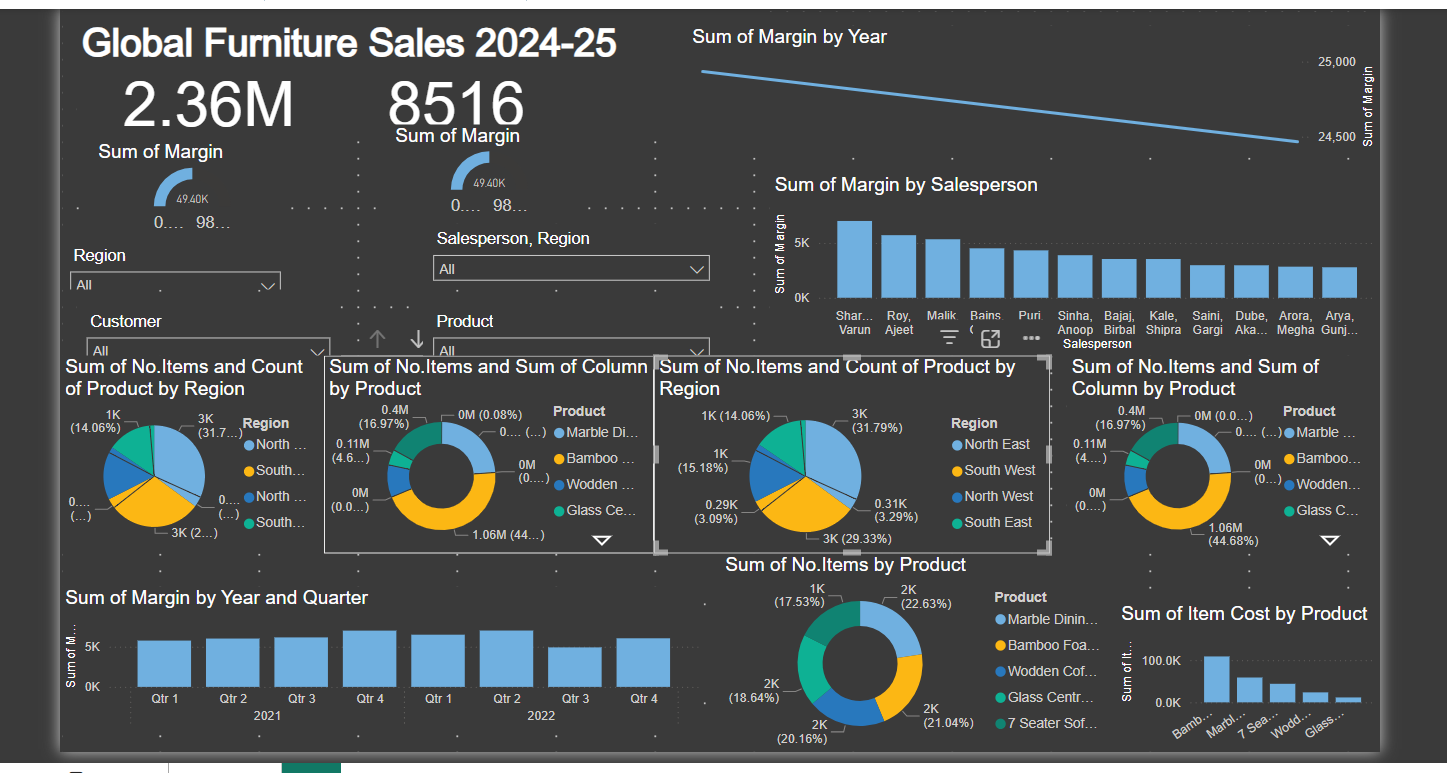

Layout of this report page (visuals, bound fields, positions):
{"tool":"powerbi","page":{"name":"Page 1","canvas":[1280,720],"ordinal":0},"visuals":[{"type":"textbox","box":[16,0,672,128],"z":0},{"type":"columnChart","fields":{"Y":["Sum(Raw_Data.Margin)"],"Category":["Raw_Data.Date.Variation.Date Hierarchy.Year","Raw_Data.Date.Variation.Date Hierarchy.Quarter"]},"box":[0,560,624,144],"z":1000},{"type":"donutChart","fields":{"Category":["Raw_Data.Product"],"Y":["Sum(Raw_Data.No.Items)"]},"box":[640,528,384,192],"z":2000},{"type":"columnChart","fields":{"Category":["Raw_Data.Product"],"Y":["Sum(Raw_Data.Item Cost)"]},"box":[1024,576,256,144],"z":3000},{"type":"donutChart","fields":{"Category":["Raw_Data.Product","Raw_Data.Salesperson"],"Y":["Sum(Raw_Data.No.Items)","Sum(Raw_Data.Column)"]},"box":[976,336,304,192],"z":4000},{"type":"pieChart","fields":{"Y":["Sum(Raw_Data.No.Items)","CountNonNull(Raw_Data.Product)"],"Category":["Raw_Data.Region"]},"box":[576,336,384,192],"z":5000},{"type":"donutChart","fields":{"Category":["Raw_Data.Product","Raw_Data.Salesperson"],"Y":["Sum(Raw_Data.No.Items)","Sum(Raw_Data.Column)"]},"box":[256,336,320,192],"z":6000},{"type":"pieChart","fields":{"Y":["Sum(Raw_Data.No.Items)","CountNonNull(Raw_Data.Product)"],"Category":["Raw_Data.Region"]},"box":[0,336,256,192],"z":7000},{"type":"lineStackedColumnComboChart","fields":{"Category":["Raw_Data.Salesperson"],"Y":["Sum(Raw_Data.Margin)"]},"box":[688,160,592,176],"z":8000},{"type":"lineChart","fields":{"Category":["Raw_Data.Date.Variation.Date Hierarchy.Year","Raw_Data.Date.Variation.Date Hierarchy.Month"],"Y2":["Sum(Raw_Data.Margin)"]},"box":[608,16,672,128],"z":9000},{"type":"slicer","fields":{"Values":["Raw_Data.Customer"]},"box":[16,288,256,48],"z":10000},{"type":"slicer","fields":{"Values":["Raw_Data.Product"]},"box":[352,288,288,48],"z":11000},{"type":"slicer","fields":{"Values":["Raw_Data.Region"]},"box":[0,224,224,48],"z":12000},{"type":"slicer","fields":{"Values":["Raw_Data.Salesperson","Raw_Data.Region"]},"box":[352,208,288,64],"z":13000},{"type":"gauge","fields":{"Y":["Sum(Raw_Data.Margin)"]},"box":[32,128,192,96],"z":14000},{"type":"card","fields":{"Values":["Sum(Raw_Data.Column)"]},"box":[48,64,192,64],"z":15000},{"type":"card","fields":{"Values":["Sum(Raw_Data.No.Items)"]},"box":[288,64,192,64],"z":16000},{"type":"gauge","fields":{"Y":["Sum(Raw_Data.Margin)"]},"box":[320,112,192,96],"z":17000}]}

Visuals, with their boxes on the page's 1280x720 design canvas (x1, y1, x2, y2). These are canvas units, not pixel positions in the 1447x773 screenshot, which may show the page scaled, cropped or inside an application window:
textbox: {"left": 16, "top": 0, "right": 688, "bottom": 128}
columnChart - Sum(Raw_Data.Margin) x Raw_Data.Date.Variation.Date Hierarchy.Year: {"left": 0, "top": 560, "right": 624, "bottom": 704}
donutChart - Raw_Data.Product x Sum(Raw_Data.No.Items): {"left": 640, "top": 528, "right": 1024, "bottom": 720}
columnChart - Raw_Data.Product x Sum(Raw_Data.Item Cost): {"left": 1024, "top": 576, "right": 1280, "bottom": 720}
donutChart - Raw_Data.Product x Raw_Data.Salesperson: {"left": 976, "top": 336, "right": 1280, "bottom": 528}
pieChart - Sum(Raw_Data.No.Items) x CountNonNull(Raw_Data.Product): {"left": 576, "top": 336, "right": 960, "bottom": 528}
donutChart - Raw_Data.Product x Raw_Data.Salesperson: {"left": 256, "top": 336, "right": 576, "bottom": 528}
pieChart - Sum(Raw_Data.No.Items) x CountNonNull(Raw_Data.Product): {"left": 0, "top": 336, "right": 256, "bottom": 528}
lineStackedColumnComboChart - Raw_Data.Salesperson x Sum(Raw_Data.Margin): {"left": 688, "top": 160, "right": 1280, "bottom": 336}
lineChart - Raw_Data.Date.Variation.Date Hierarchy.Year x Raw_Data.Date.Variation.Date Hierarchy.Month: {"left": 608, "top": 16, "right": 1280, "bottom": 144}
slicer - Raw_Data.Customer: {"left": 16, "top": 288, "right": 272, "bottom": 336}
slicer - Raw_Data.Product: {"left": 352, "top": 288, "right": 640, "bottom": 336}
slicer - Raw_Data.Region: {"left": 0, "top": 224, "right": 224, "bottom": 272}
slicer - Raw_Data.Salesperson x Raw_Data.Region: {"left": 352, "top": 208, "right": 640, "bottom": 272}
gauge - Sum(Raw_Data.Margin): {"left": 32, "top": 128, "right": 224, "bottom": 224}
card - Sum(Raw_Data.Column): {"left": 48, "top": 64, "right": 240, "bottom": 128}
card - Sum(Raw_Data.No.Items): {"left": 288, "top": 64, "right": 480, "bottom": 128}
gauge - Sum(Raw_Data.Margin): {"left": 320, "top": 112, "right": 512, "bottom": 208}
